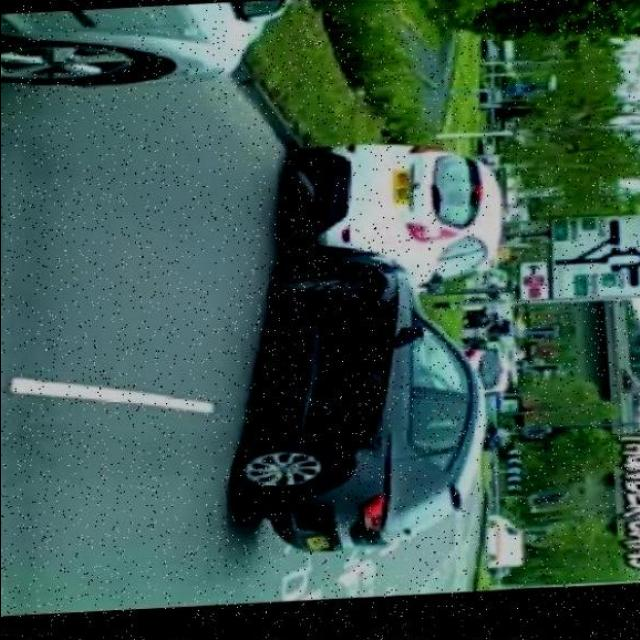accident: (208, 132, 548, 557)
